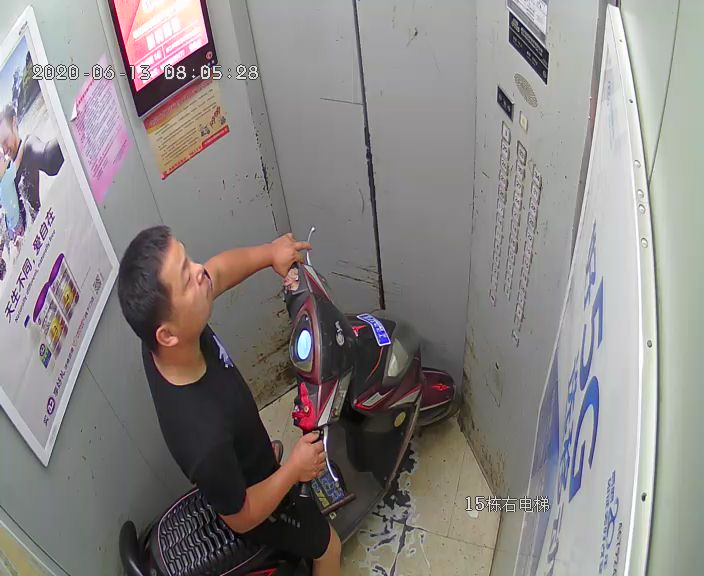Electric-bicycle: (117, 224, 451, 576)
